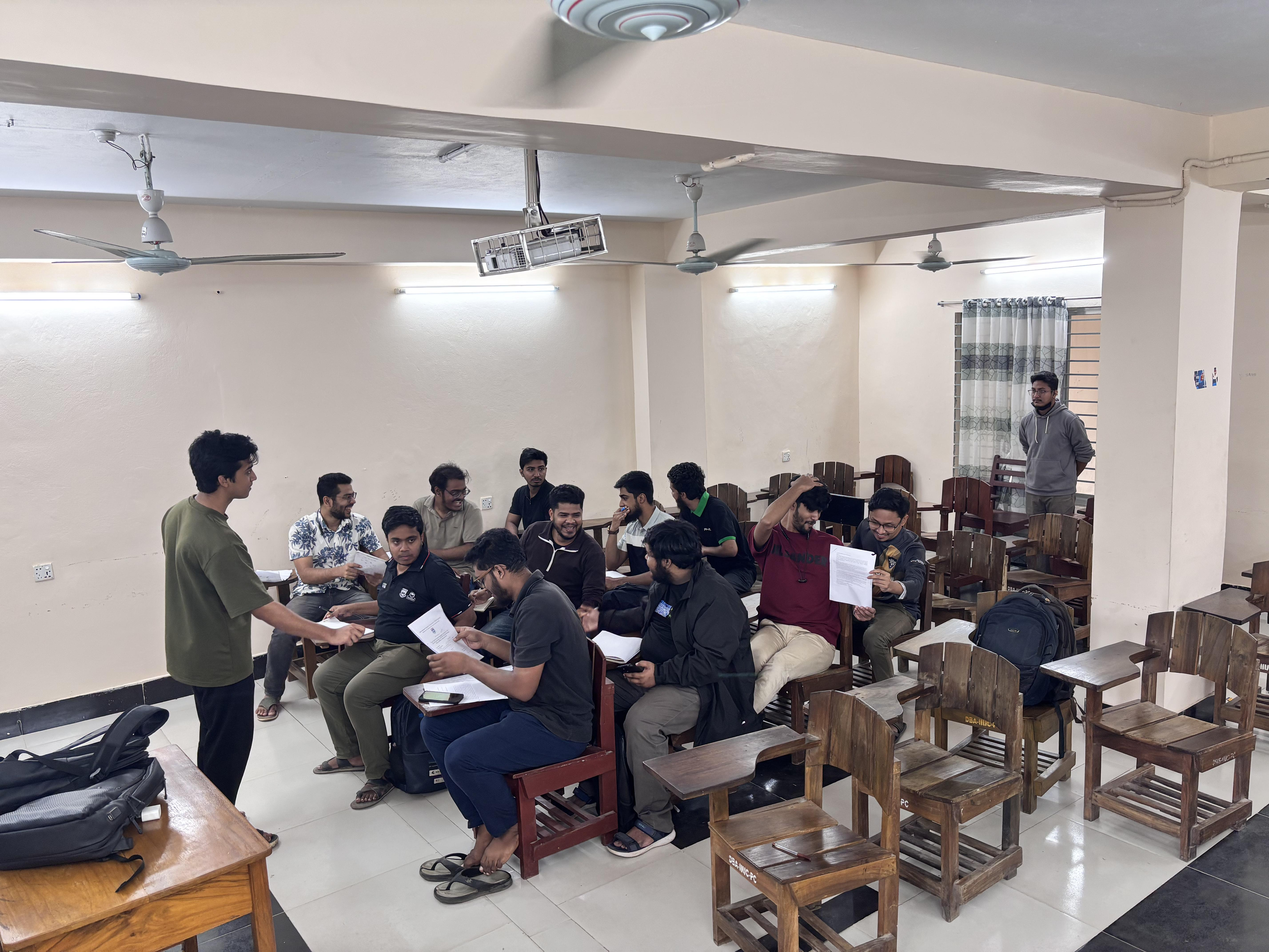exchanging_sheets: (254, 462, 392, 723)
hidden_communication: (752, 473, 928, 713)
invigilator: (150, 414, 369, 817), (1015, 356, 1096, 519)
side_talking: (661, 454, 761, 582), (521, 479, 609, 620), (404, 461, 492, 569)
suspicious_moving: (310, 503, 477, 812), (603, 467, 683, 573), (504, 442, 561, 538)
using_phone: (400, 523, 600, 901), (585, 513, 763, 853)
